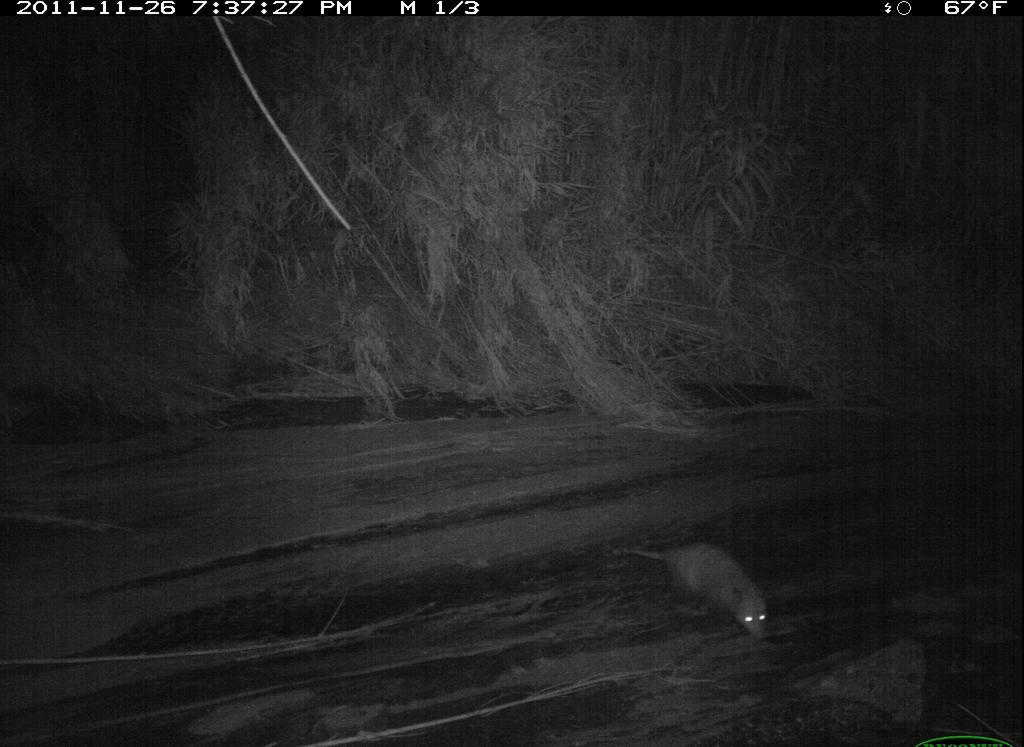opossum: (615, 533, 774, 648)
